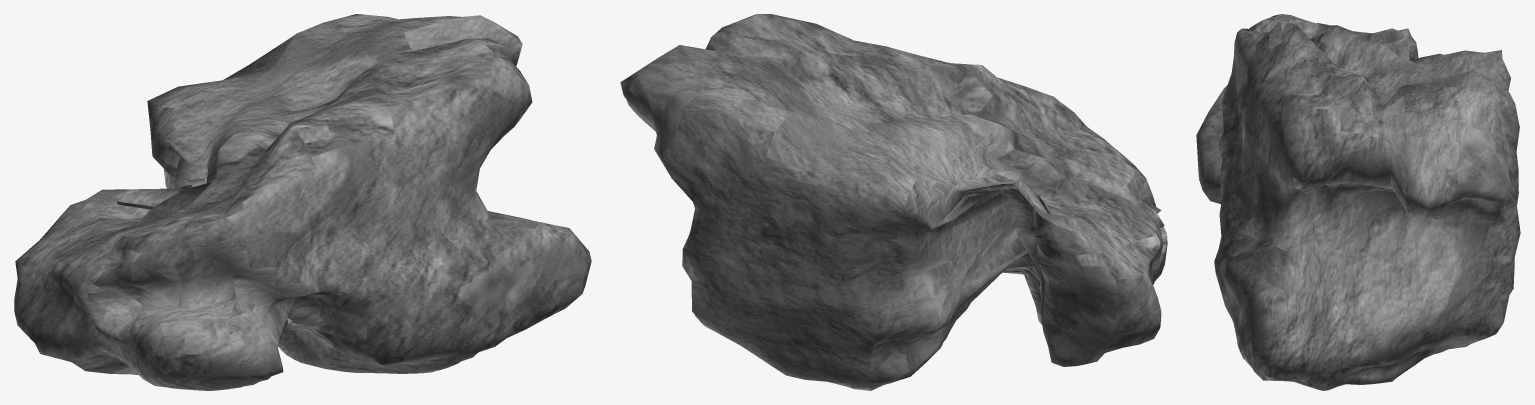
The model's file is Asteroid 1.fbx.
The picture shows the model from 3 angles, left to right: view 1: azimuth 30°, elevation 25°; view 2: azimuth 150°, elevation 25°; view 3: azimuth 270°, elevation 25°; orthographic projection. The views are drawn at different scales.
Parts seen in each view (by area): view 1: Cube; view 2: Cube; view 3: Cube.
Part boxes in pixels (<box>): Cube: <box>14,14,591,390</box>; Cube: <box>620,14,1167,390</box>; Cube: <box>1196,14,1520,390</box>.
Bounding box in the file's own units: 1.83 × 1.01 × 0.9836.
